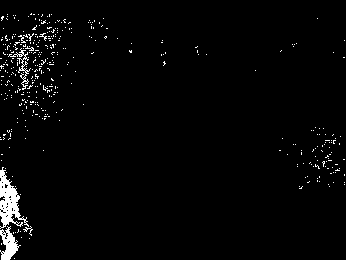person: (1, 167, 28, 260)
